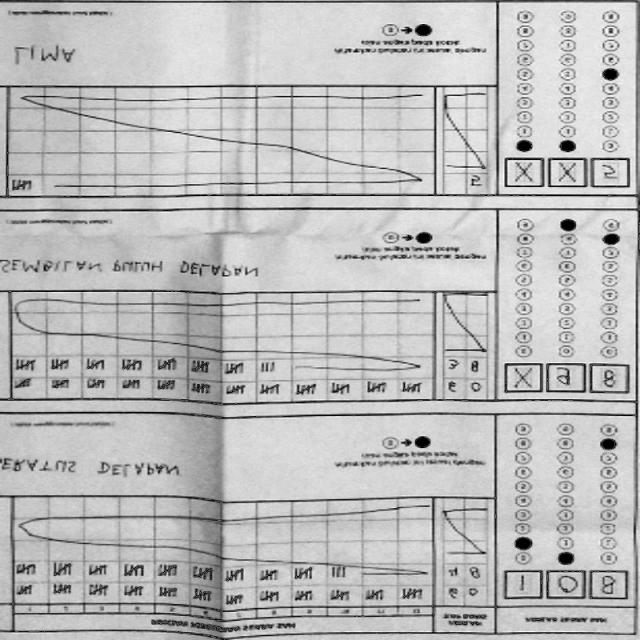Suara: (500, 566, 632, 605), (501, 361, 633, 399), (500, 156, 632, 194)
